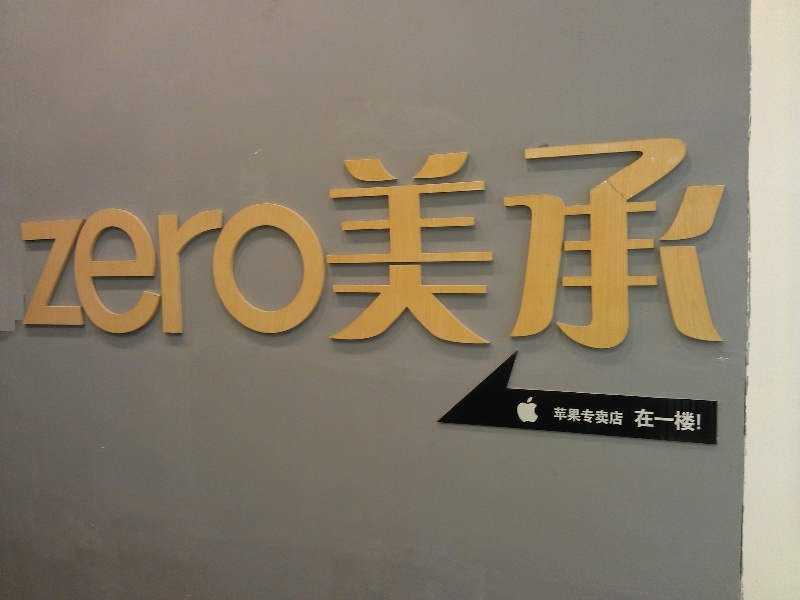text: (33, 128, 48, 352), (49, 128, 64, 352), (65, 128, 80, 352), (81, 128, 96, 352), (97, 128, 112, 352), (113, 128, 128, 352), (129, 128, 144, 352), (145, 128, 160, 352), (161, 128, 176, 352), (177, 128, 192, 352), (193, 128, 208, 352), (209, 128, 224, 352), (225, 128, 240, 352), (241, 128, 256, 352), (257, 128, 272, 352), (273, 128, 288, 352), (289, 128, 304, 352), (305, 128, 320, 352), (321, 128, 336, 352), (337, 128, 352, 352), (353, 128, 368, 352), (369, 128, 384, 352), (385, 128, 400, 352), (401, 128, 416, 352), (417, 128, 432, 352), (433, 128, 448, 352), (449, 128, 464, 352), (465, 128, 480, 352), (481, 128, 496, 352), (497, 128, 512, 352), (513, 128, 528, 352), (529, 128, 544, 352), (545, 128, 560, 352), (561, 128, 576, 352), (577, 128, 592, 352), (593, 128, 608, 352), (609, 128, 624, 352), (625, 128, 640, 352), (641, 128, 656, 352), (657, 128, 672, 352), (673, 128, 688, 352), (689, 128, 704, 352), (705, 128, 720, 352), (20, 128, 32, 352), (721, 128, 729, 352), (641, 408, 656, 433), (657, 408, 672, 433), (673, 408, 688, 433), (689, 408, 702, 433), (561, 407, 576, 426), (577, 407, 592, 426), (593, 407, 608, 426), (609, 407, 624, 426), (634, 408, 640, 433), (554, 407, 560, 426)
